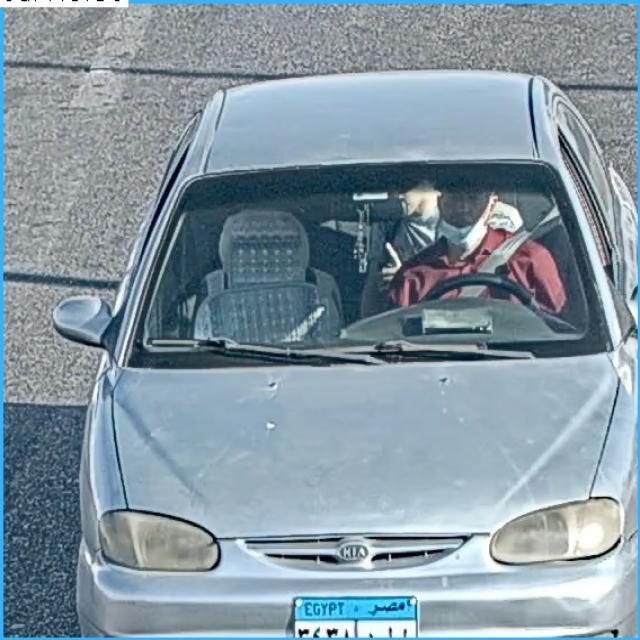windshield: (116, 165, 611, 367)
